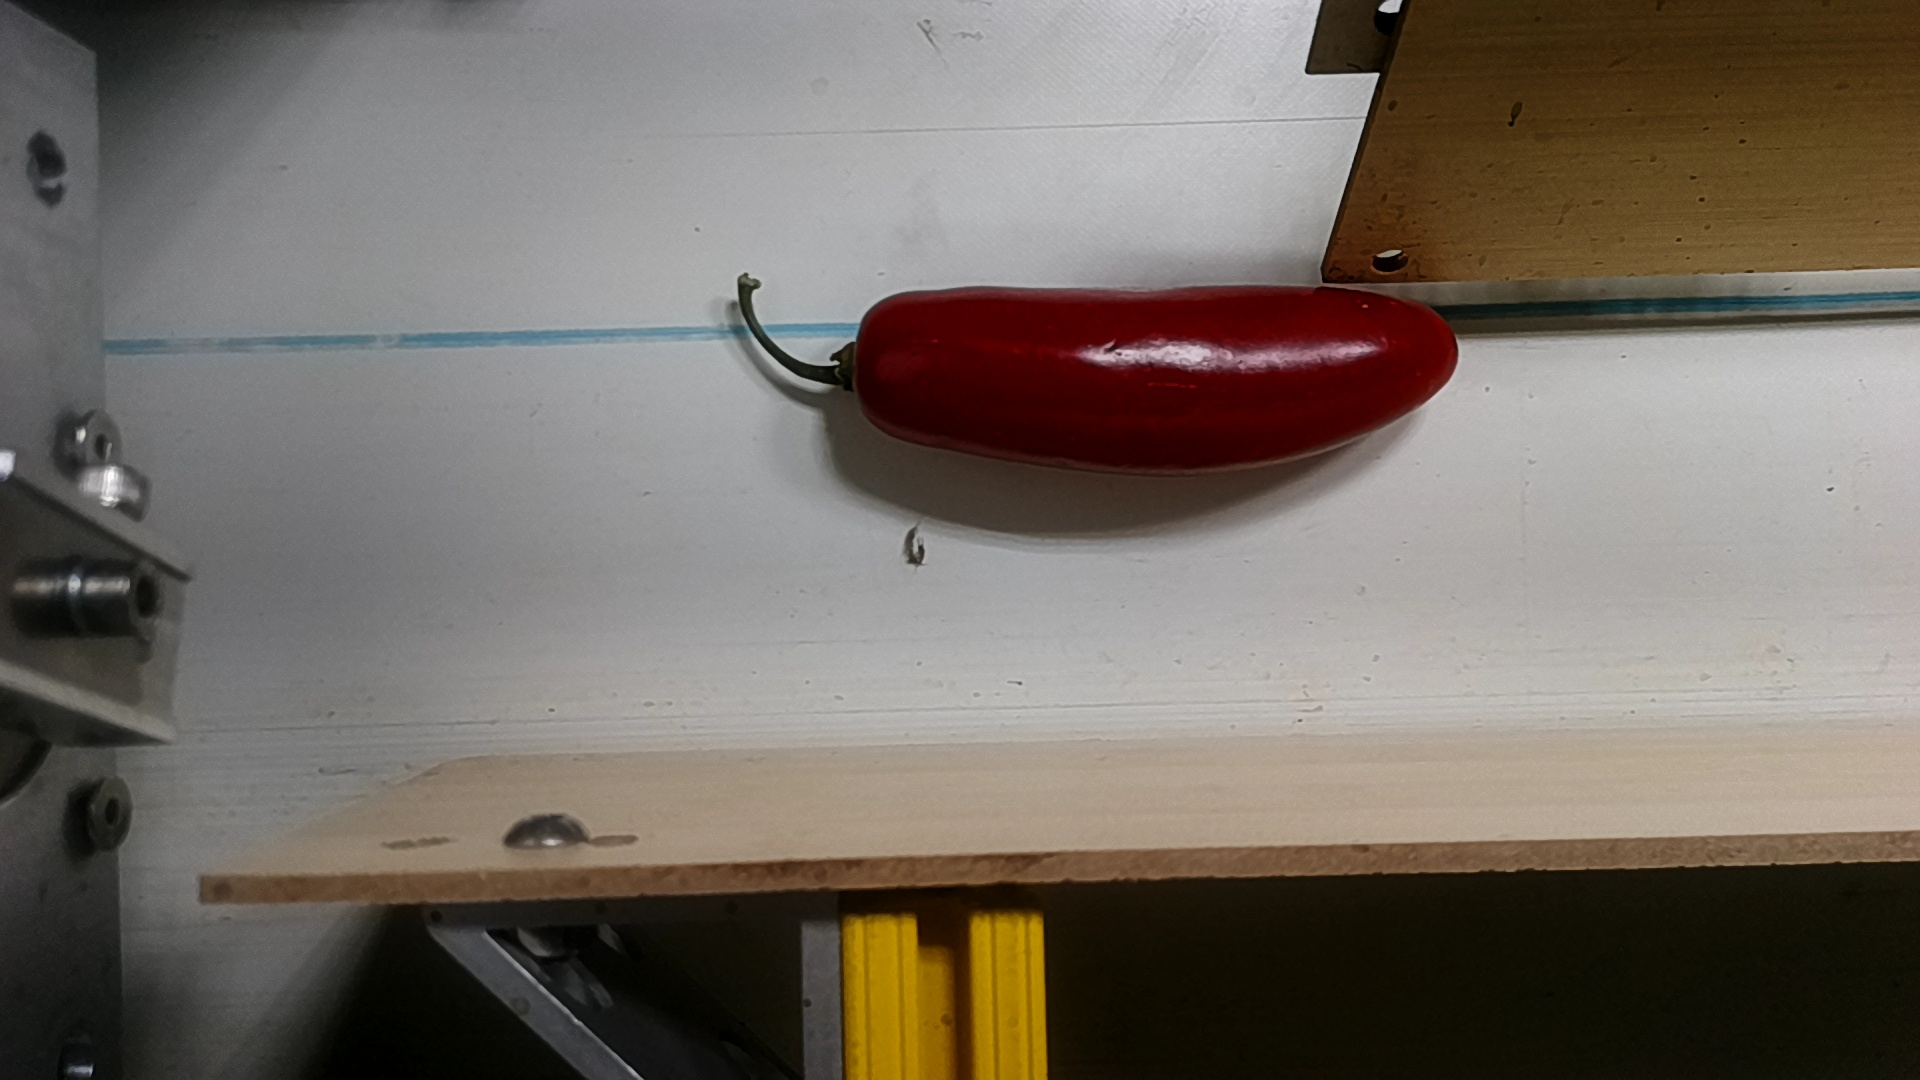Cut Point: (820, 287, 920, 444)
